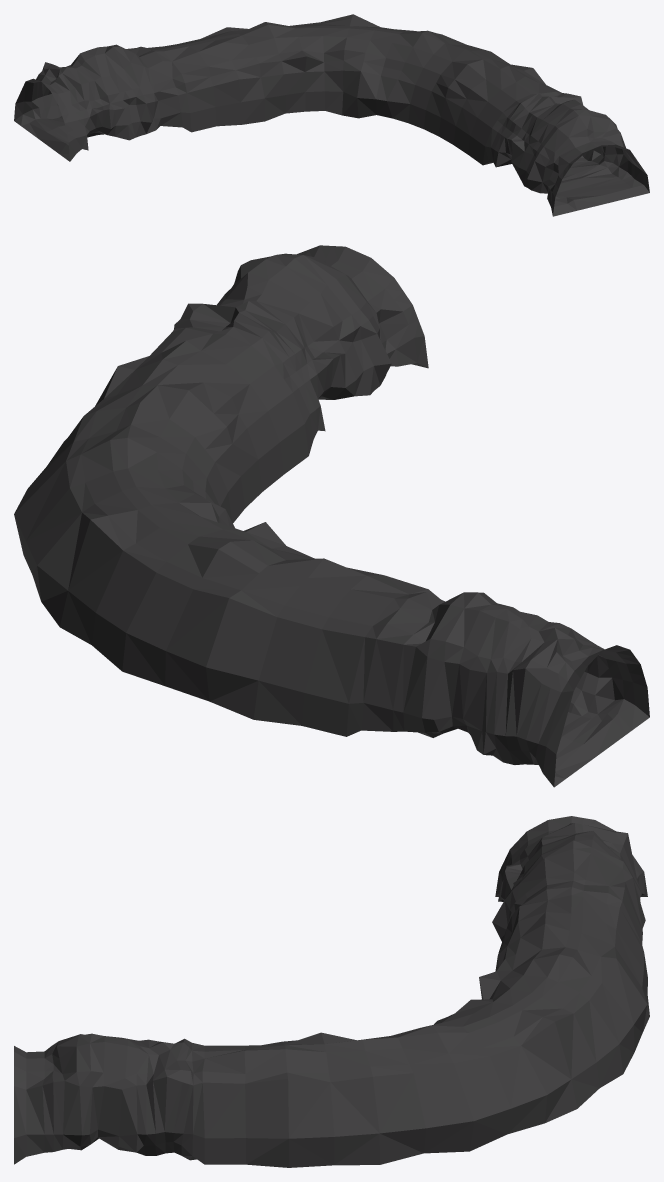
The model's file is Cave_12.fbx.
The picture shows the model from 3 angles, top to bottom: view 1: azimuth 30°, elevation 25°; view 2: azimuth 150°, elevation 25°; view 3: azimuth 270°, elevation 25°; orthographic projection. The views are drawn at different scales.
Visible parts, largest first — view 1: polySurface36; view 2: polySurface36; view 3: polySurface36.
Boxes of the visible parts, x1,y1,x2,y2 form: polySurface36: (14, 14, 649, 216); polySurface36: (14, 245, 649, 787); polySurface36: (14, 816, 649, 1167).
Size of the model in its own units: 34.42 by 6.62 by 34.4.
